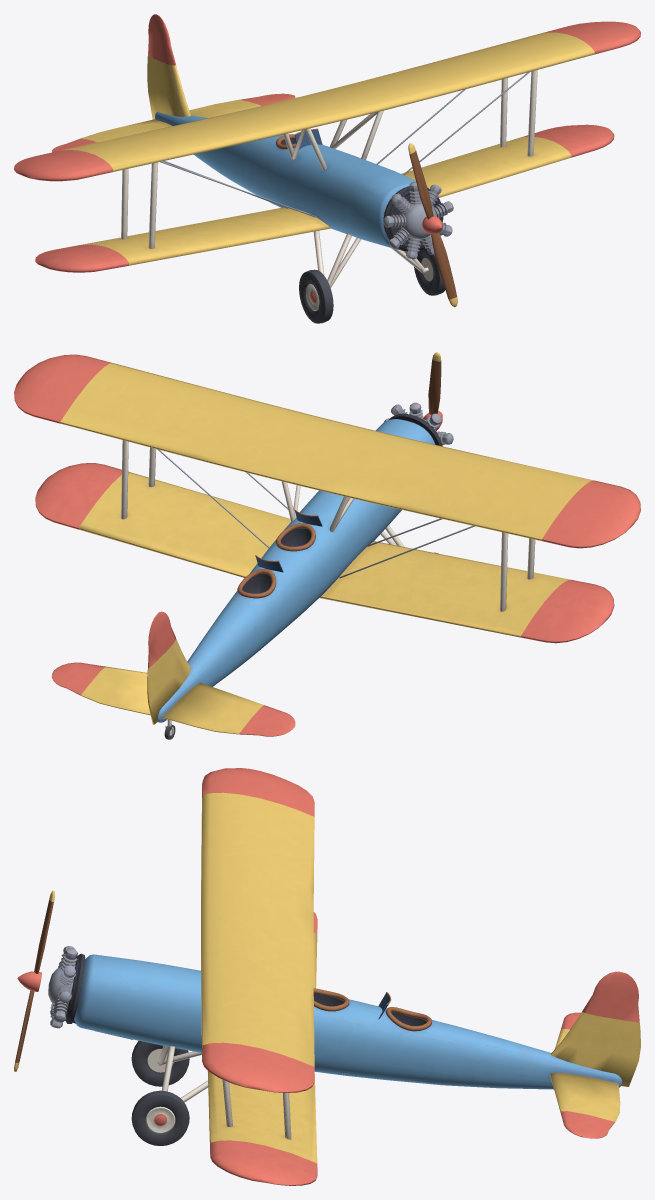
The model's file is biplano.glb.
3 renders of one model, top to bottom at view 1: azimuth 30°, elevation 25°; view 2: azimuth 150°, elevation 25°; view 3: azimuth 270°, elevation 25°, orthographic. The views are drawn at different scales.
Parts seen in each view (by area): view 1: biplane_body; view 2: biplane_body; view 3: biplane_body.
Boxes of the visible parts, x1=… form: biplane_body: x1=14, y1=14, x2=640, y2=323; biplane_body: x1=14, y1=352, x2=640, y2=739; biplane_body: x1=14, y1=768, x2=640, y2=1185.
Size of the model in its own units: 9.82 by 3.14 by 8.2.
Materials: 14 (1 with a texture image).
